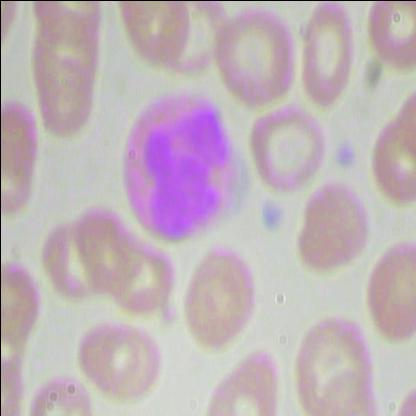Platelets: (252, 197, 288, 240), (334, 142, 354, 170)
RBC: (180, 240, 262, 357), (209, 5, 298, 110), (72, 310, 164, 402), (294, 172, 371, 280), (245, 104, 329, 195), (359, 235, 415, 350), (298, 0, 356, 108), (198, 343, 280, 415), (1, 91, 41, 223), (364, 112, 415, 212), (366, 0, 416, 78)
WBC: (109, 83, 243, 244)
